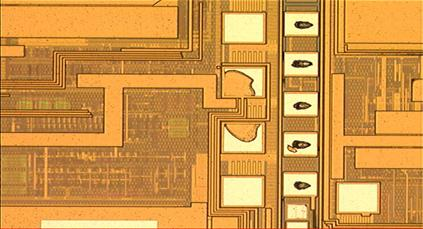BLOCK ETCH: (222, 71, 298, 154)
